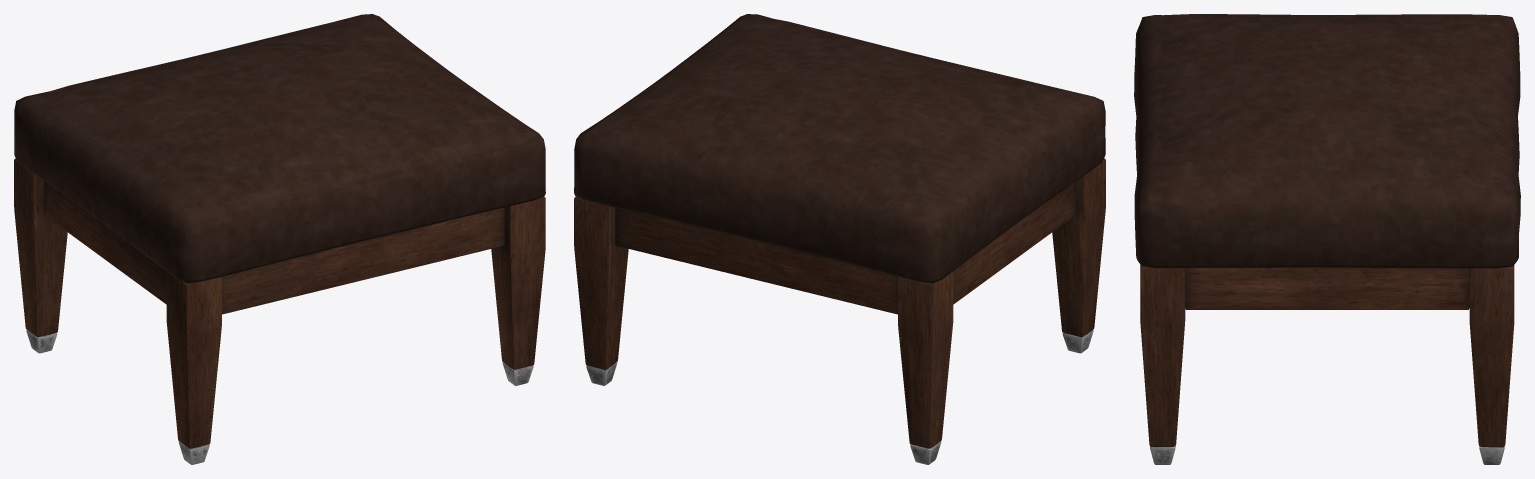
The model's file is basic_ottoman-opt.glb.
3 views of the same model, side by side, from view 1: azimuth 30°, elevation 25°; view 2: azimuth 150°, elevation 25°; view 3: azimuth 270°, elevation 25° (orthographic). The views are drawn at different scales.
Visible parts, largest first — view 1: defaultMaterial; view 2: defaultMaterial; view 3: defaultMaterial.
Boxes of the visible parts, <box> form: defaultMaterial: <box>14,14,545,464</box>; defaultMaterial: <box>574,14,1105,464</box>; defaultMaterial: <box>1134,14,1520,464</box>.
Size of the model in its own units: 61.76 by 44.21 by 51.68.
1 material, 1 textured.
